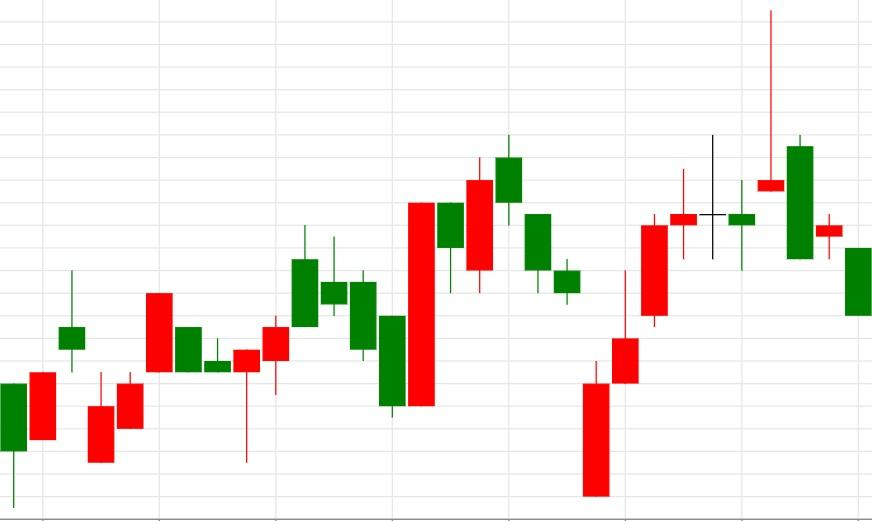three_black_crows_fall: (377, 133, 581, 417)
three_white_soldiers_rise: (495, 132, 669, 498)
